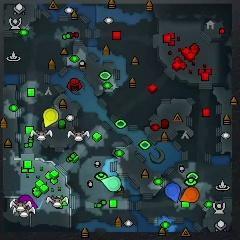p1: (165, 182, 181, 203)
p2: (101, 176, 121, 191)
p3: (19, 194, 38, 208)
p4: (43, 108, 59, 128)
p5: (181, 187, 200, 202)
